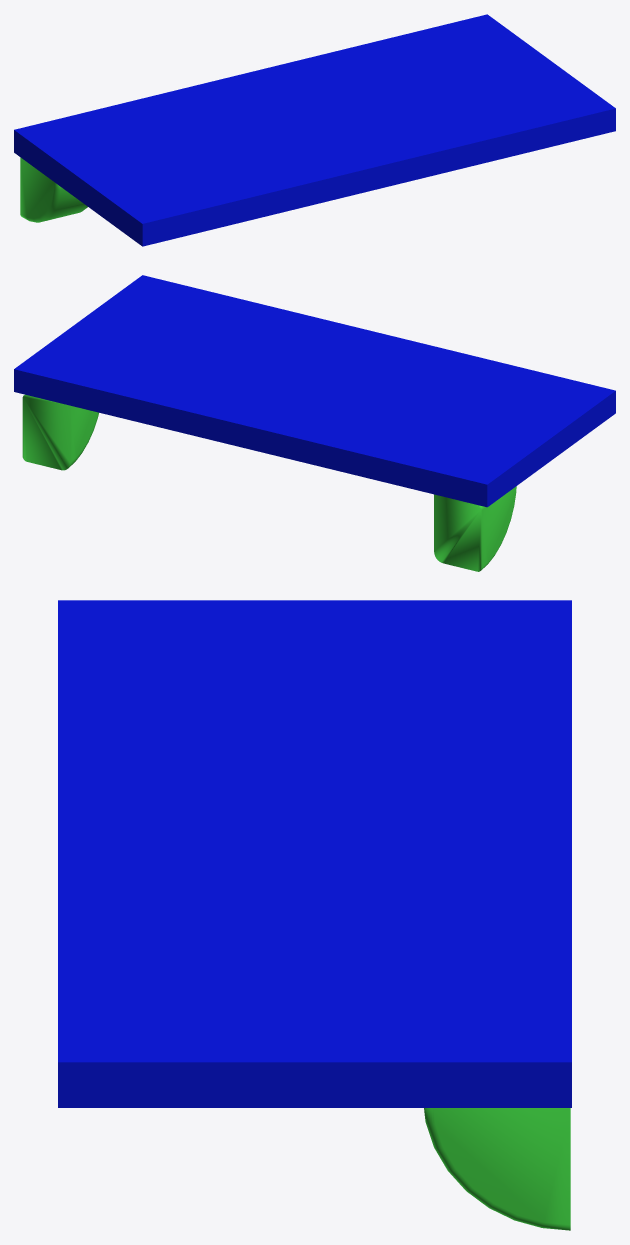
Rendered from Floating_Shelf(1.1).fbx.
3 renders of one model, top to bottom at view 1: azimuth 30°, elevation 25°; view 2: azimuth 150°, elevation 25°; view 3: azimuth 270°, elevation 25°, orthographic. The views are drawn at different scales.
Parts seen in each view (by area): view 1: Cube, Circle; view 2: Cube, Circle; view 3: Cube, Circle.
Boxes of the visible parts, x1=… form: Cube: x1=14, y1=14, x2=615, y2=246; Circle: x1=20, y1=157, x2=87, y2=222; Cube: x1=14, y1=275, x2=615, y2=507; Circle: x1=22, y1=394, x2=516, y2=571; Cube: x1=58, y1=600, x2=571, y2=1107; Circle: x1=424, y1=1108, x2=570, y2=1230.
Size of the model in its own units: 425 by 77.09 by 200.
